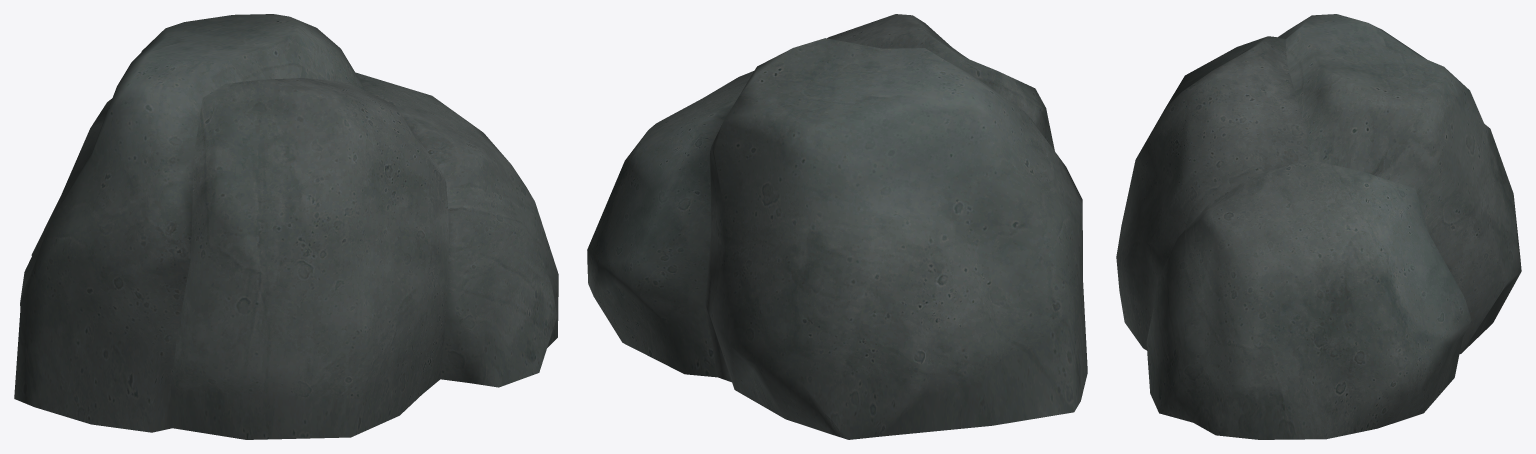
File: Cliff_Wall_Short03.fbx
3 renders of one model, left to right at view 1: azimuth 30°, elevation 25°; view 2: azimuth 150°, elevation 25°; view 3: azimuth 270°, elevation 25°, orthographic. The views are drawn at different scales.
Parts seen in each view (by area): view 1: SM_CliffWall_Small03.mo; view 2: SM_CliffWall_Small03.mo; view 3: SM_CliffWall_Small03.mo.
Part boxes in pixels (box(x1,y1,x2,y2)): SM_CliffWall_Small03.mo: box(14, 14, 558, 439); SM_CliffWall_Small03.mo: box(587, 14, 1087, 439); SM_CliffWall_Small03.mo: box(1116, 14, 1521, 439).
Size of the model in its own units: 709 by 435 by 572.
Materials: 1 (1 with a texture image).
